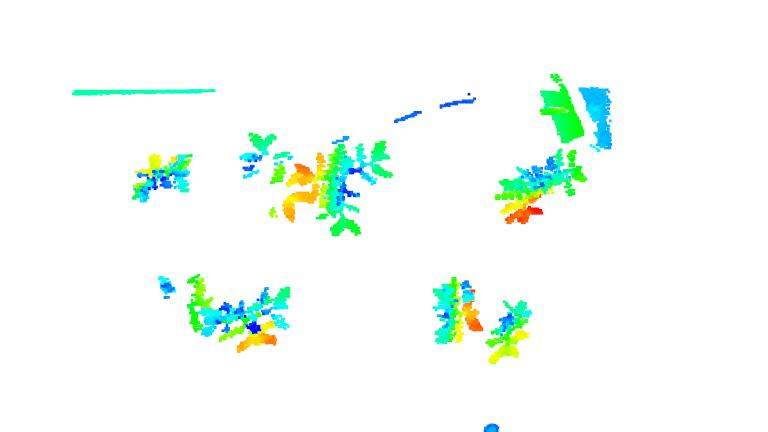chickpea: (301, 141, 396, 237), (495, 150, 586, 224), (239, 127, 307, 223), (203, 290, 302, 352), (152, 270, 206, 341), (430, 278, 482, 346), (131, 147, 191, 200), (484, 300, 531, 362)
